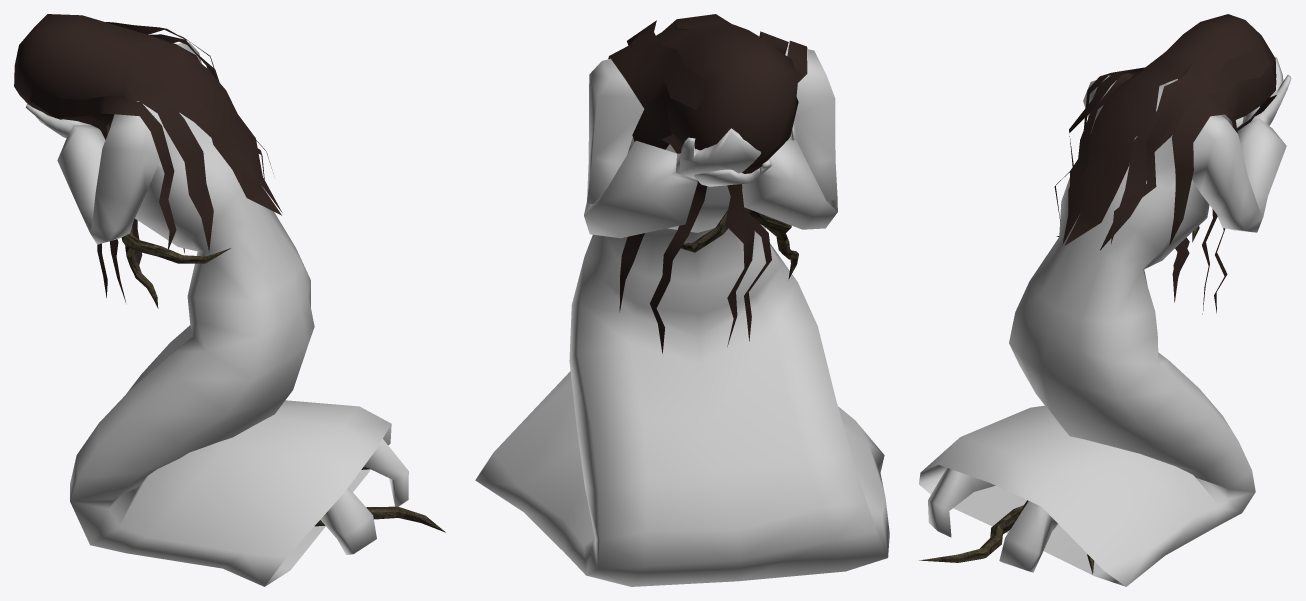
Rendered from Elaine_1.fbx.
3 views of the same model, side by side, from view 1: azimuth 30°, elevation 25°; view 2: azimuth 150°, elevation 25°; view 3: azimuth 270°, elevation 25° (orthographic). The views are drawn at different scales.
Visible parts, largest first — view 1: Pose_1; view 2: Pose_1; view 3: Pose_1.
Boxes of the visible parts, x1,y1,x2,y2 form: Pose_1: (14, 14, 445, 586); Pose_1: (475, 14, 889, 586); Pose_1: (919, 14, 1291, 586).
Size of the model in its own units: 68.85 by 95.13 by 72.39.
